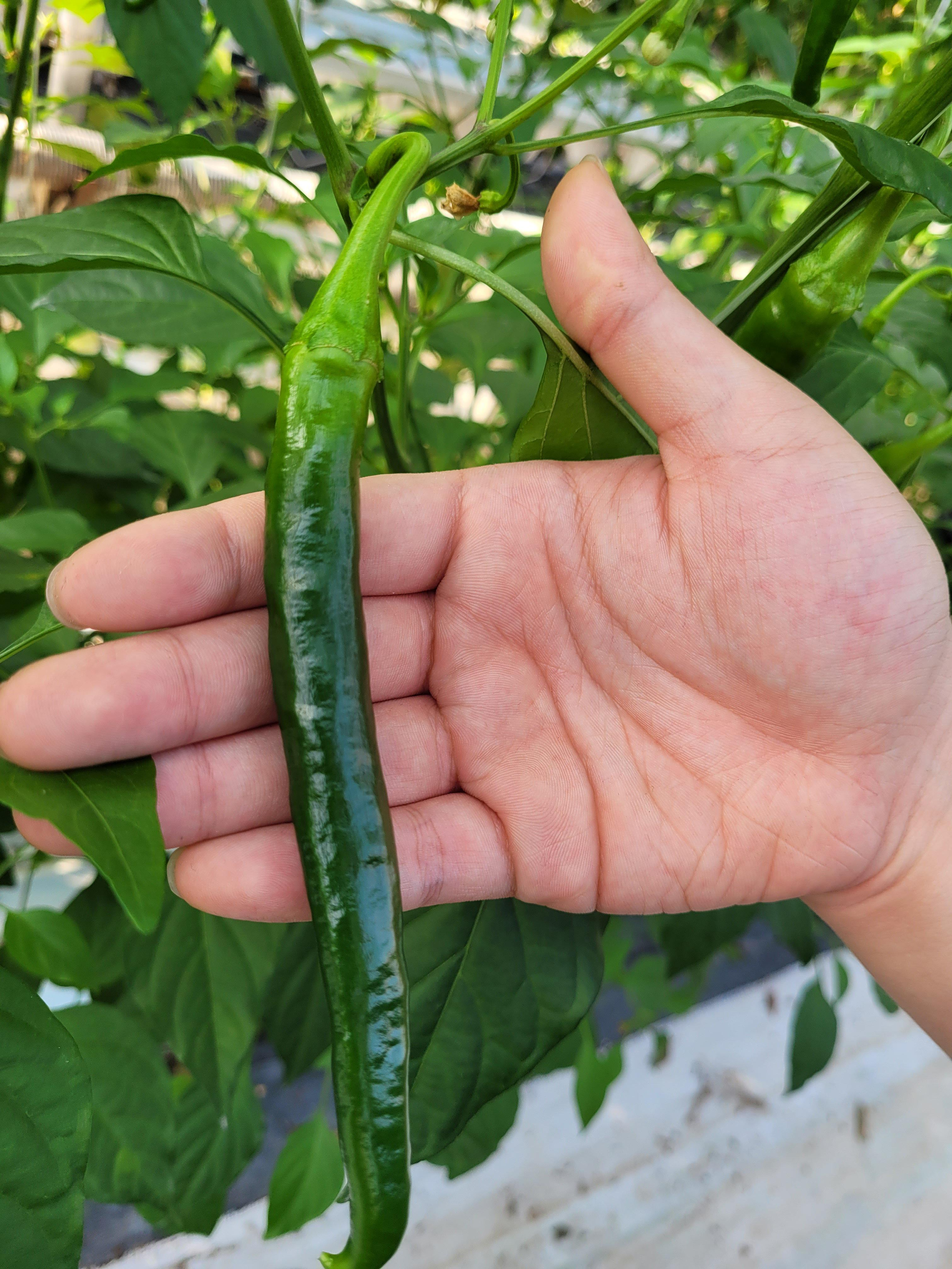Buah Cabai Sehat: (260, 280, 434, 1265)
